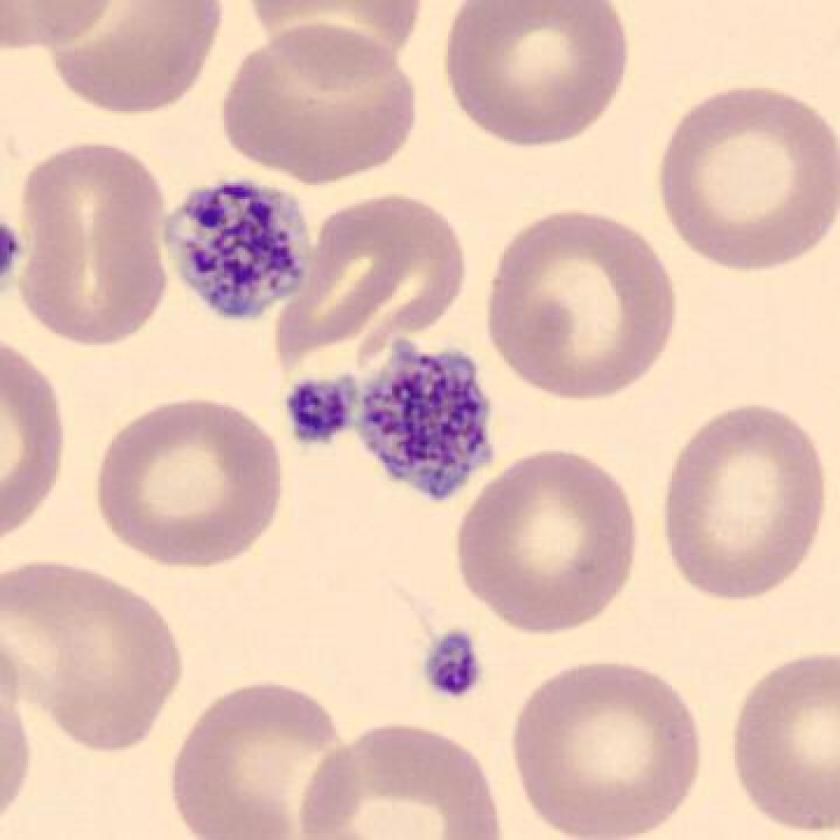platelets: (342, 330, 514, 515), (153, 166, 330, 337), (267, 362, 365, 455), (412, 612, 491, 714)
